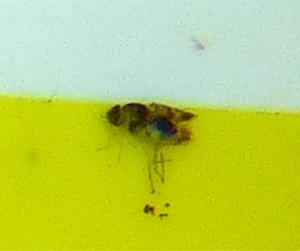Brachycera: (100, 100, 200, 151)
